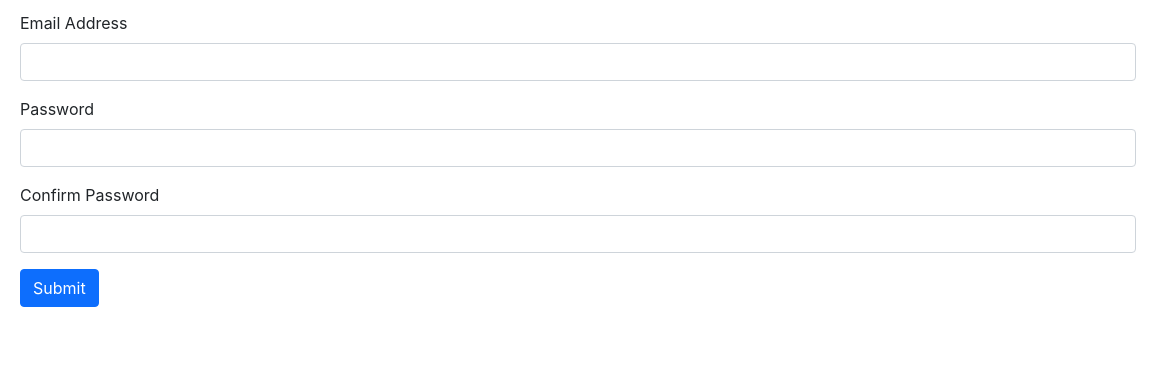
Scenario: App › Error handling › should show confirm password error message if passwords do not match
The width and height of the screenshot is (1157, 368).
Type "selena@gmail.com" into the field labelled "Email Address" at (578,62), box [20,43,1136,81]
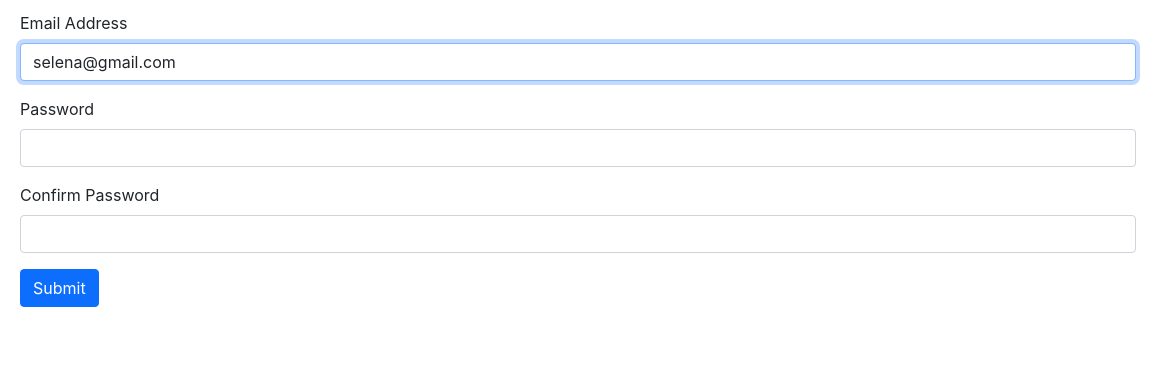
Type "passing" into the password field labelled "Password" at (578,148), box [20,129,1136,167]
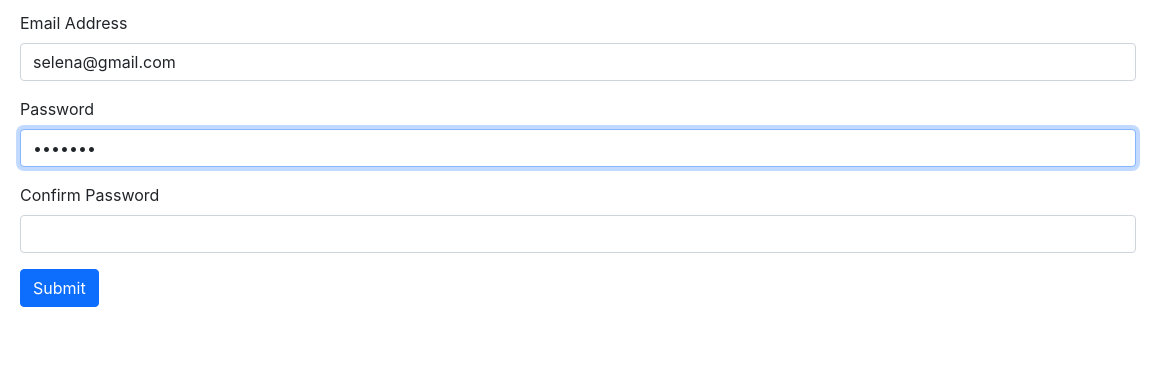
Type "failing" into the password field labelled "Confirm Password" at (578,234), box [20,215,1136,253]
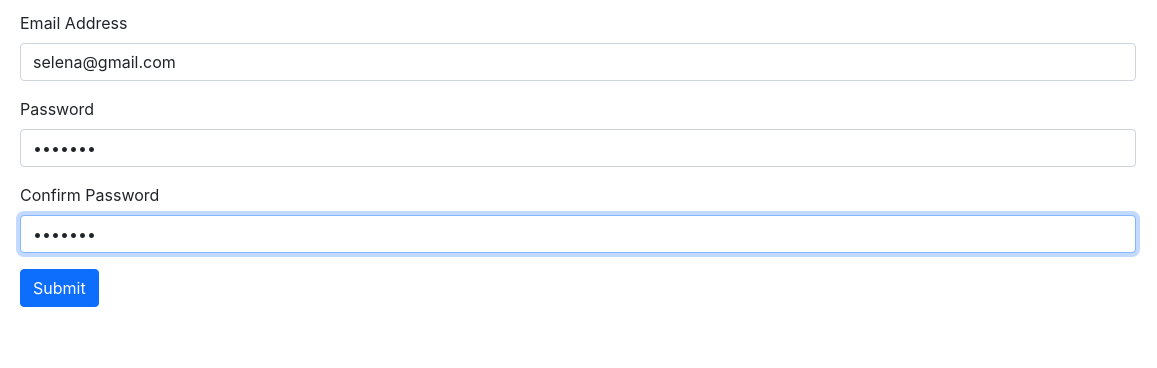
Check: the text "confirm password does not match password." is not shown
Click the button "Submit" at (59,288), box [20,269,99,307]
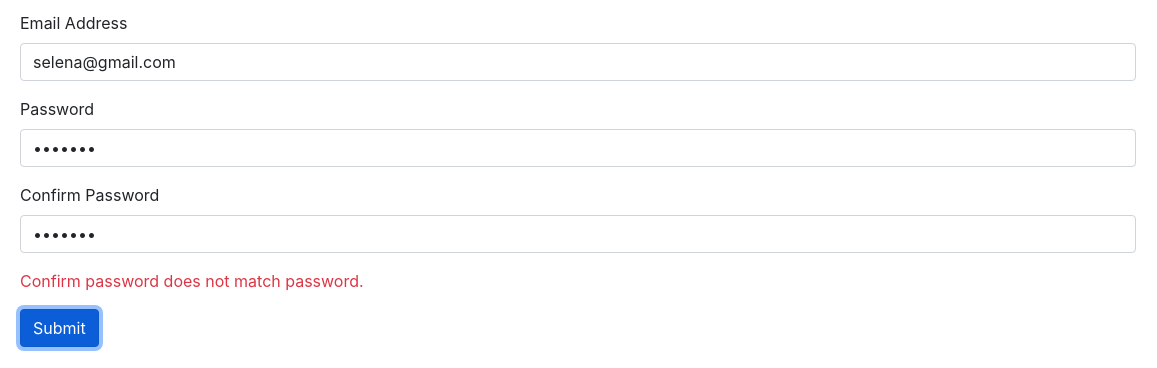
Check: the text "Confirm password does not match password." is shown, box [20,271,364,291]
